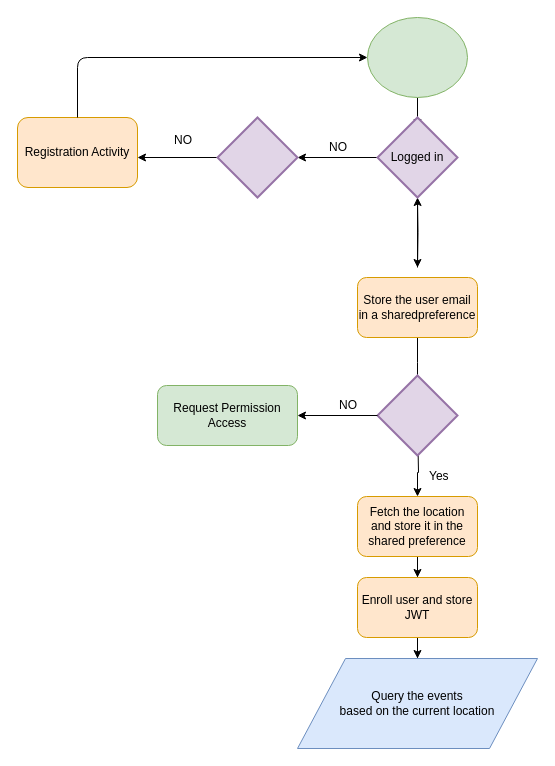
The diagram is 555 pixels wide and 766 high, and some of its shapes have lost their labels. Here are the shapes that lost their labels. From the top down, the box of each, then its label:
(366, 16, 468, 98): Starting the App
(216, 116, 298, 198): Register?
(376, 374, 458, 456): Location access
